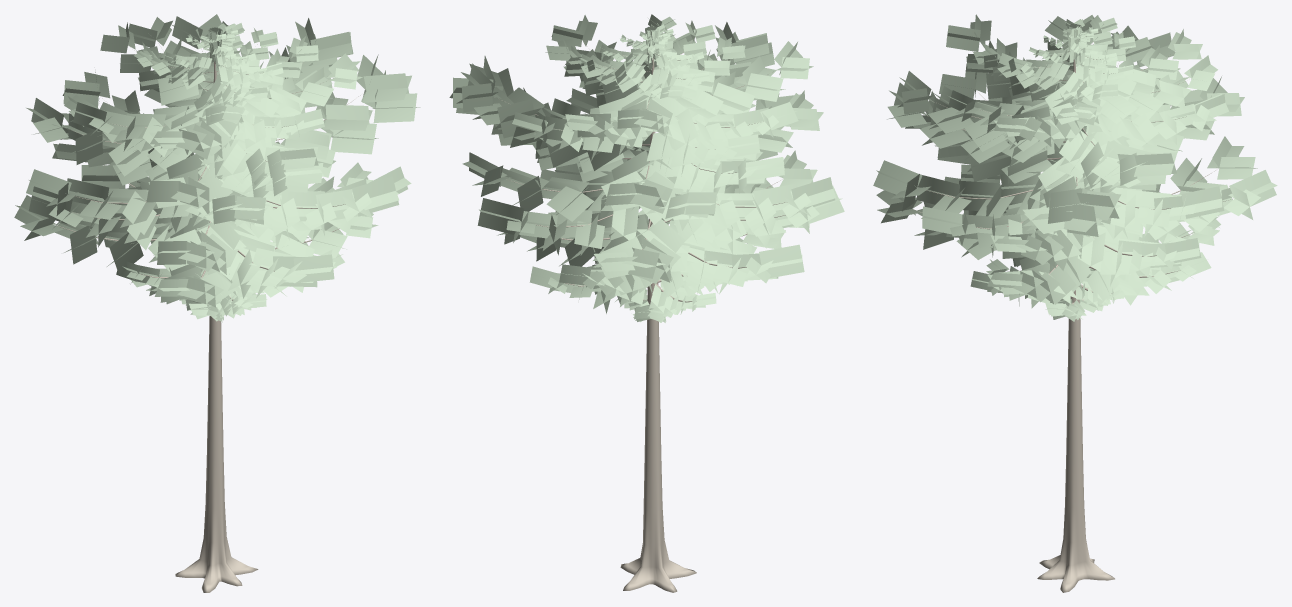
The model's file is tree-1.gltf.
The picture shows the model from 3 angles, left to right: view 1: azimuth 30°, elevation 25°; view 2: azimuth 150°, elevation 25°; view 3: azimuth 270°, elevation 25°; orthographic projection.
Parts seen in each view (by area): view 1: TerraWeave Arbor; view 2: TerraWeave Arbor; view 3: TerraWeave Arbor.
Boxes of the visible parts, x1,y1,x2,y2 form: TerraWeave Arbor: (14, 14, 420, 592); TerraWeave Arbor: (449, 14, 844, 592); TerraWeave Arbor: (873, 14, 1277, 592).
Bounding box in the file's own units: 13.92 × 19.65 × 13.15.
